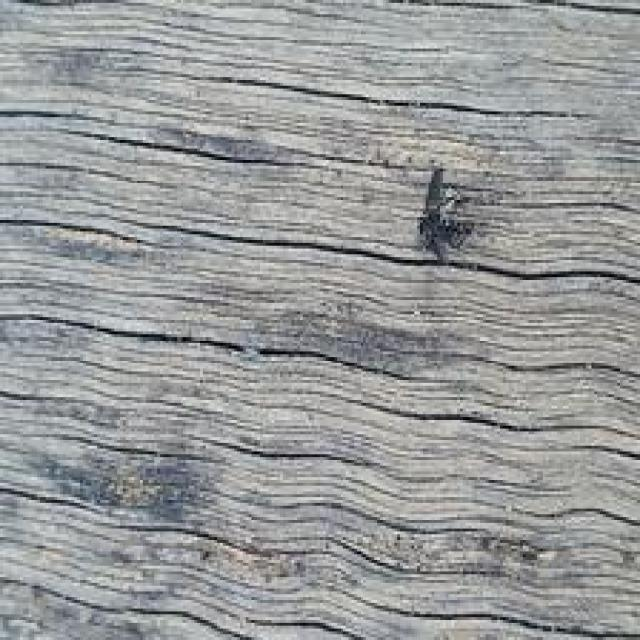Aedes albopictus: (414, 164, 474, 264)
